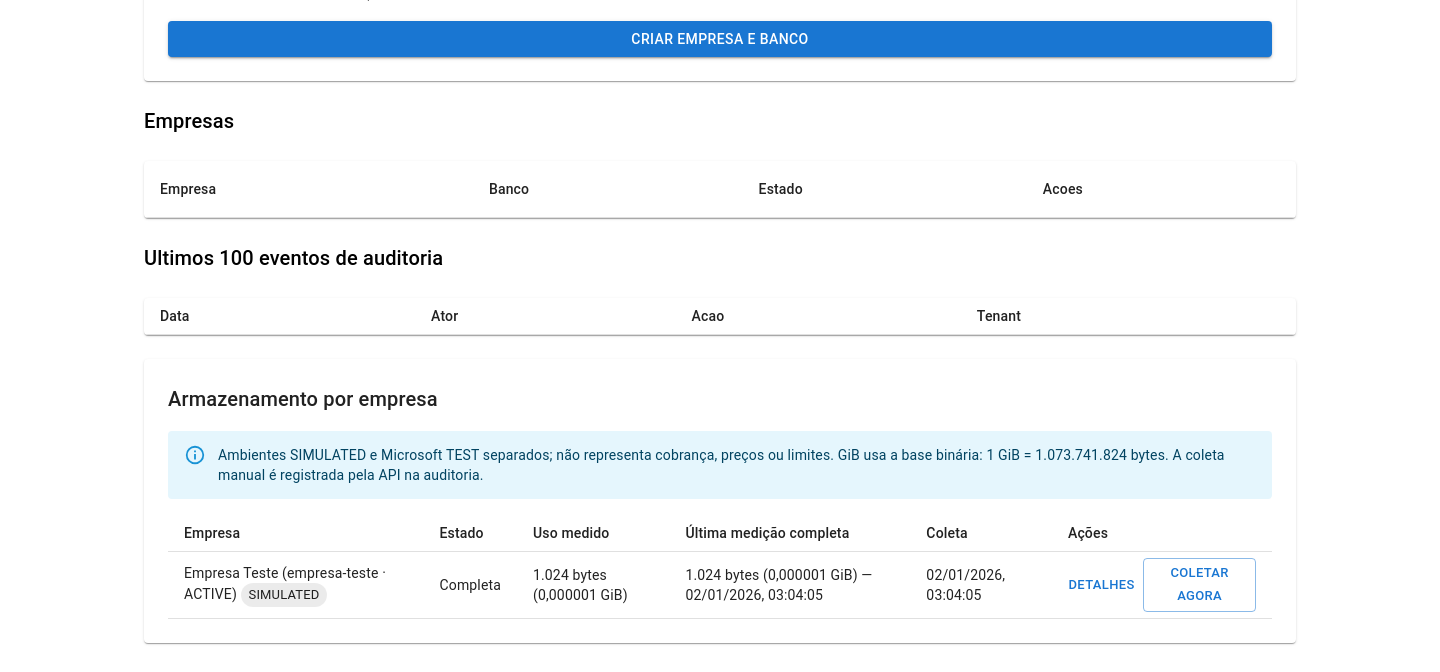
loads platform storage only after password rotation and sends the CSRF token for collection
(page scrolled)
Click the button "Coletar agora" at (1200, 585), box [1143,558,1256,612]
(page scrolled)
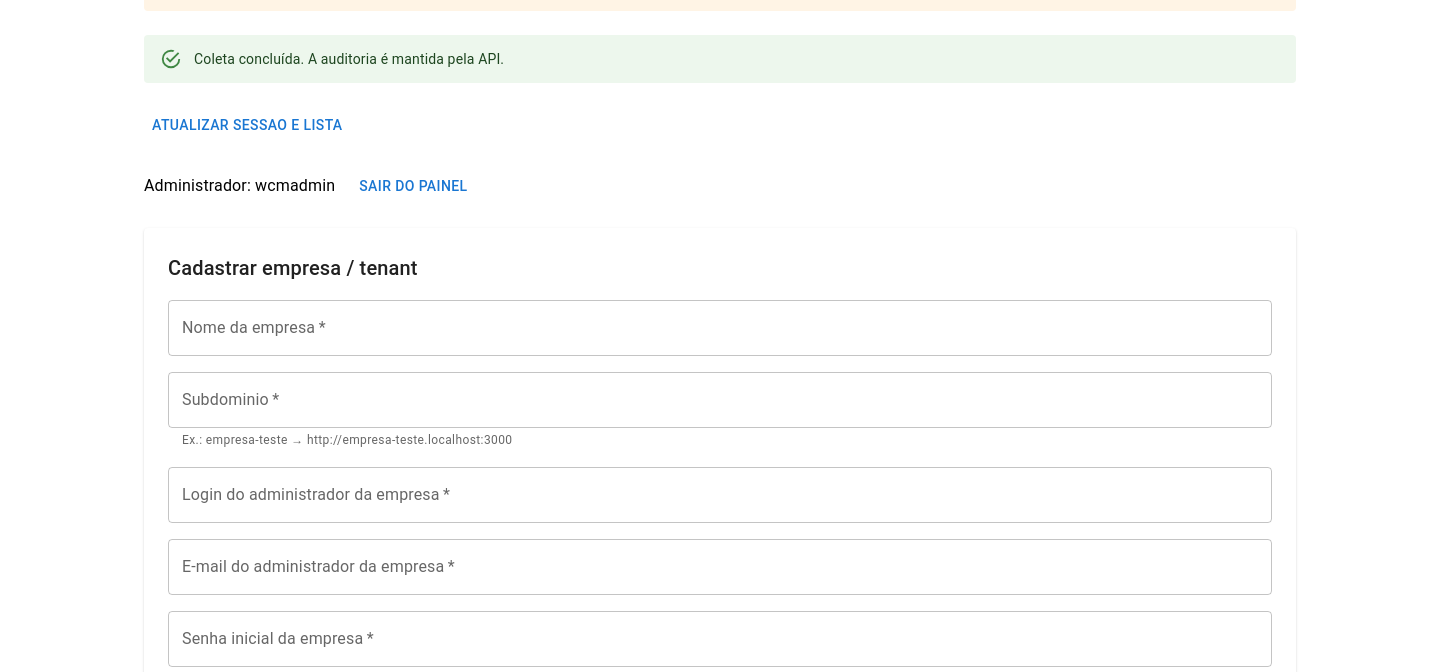
Result: the text "Coleta concluída. A auditoria é mantida pela API." is shown at [194,51,504,67]
